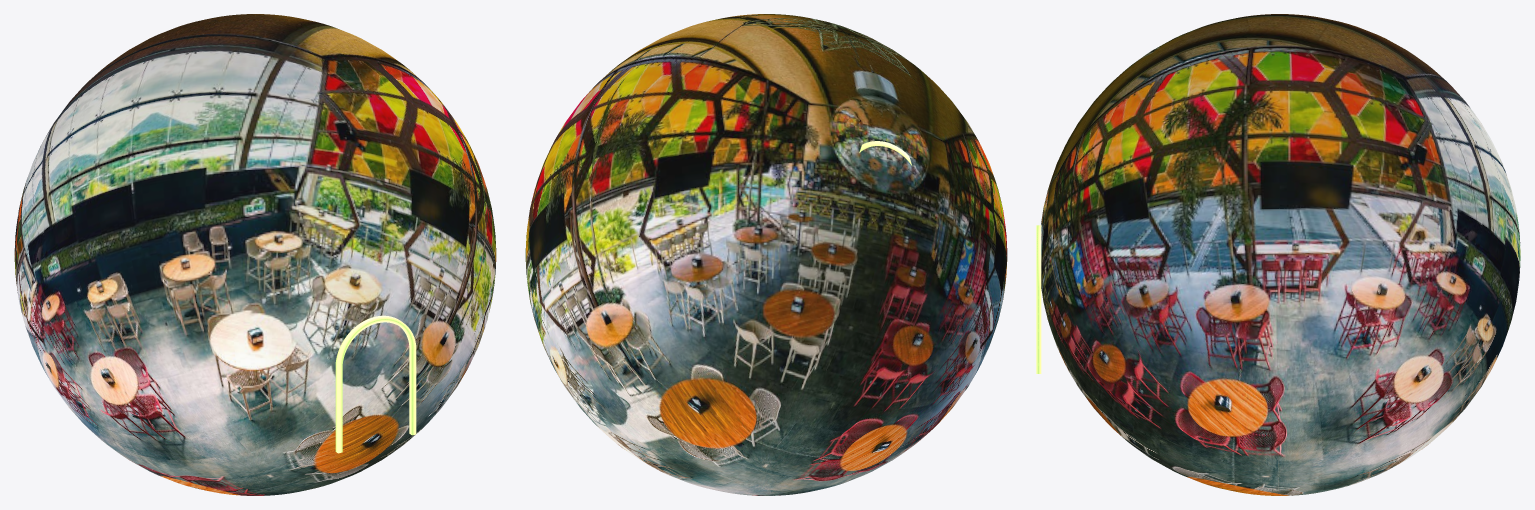
The model's file is kenko-portal.glb.
3 views of the same model, side by side, from view 1: azimuth 30°, elevation 25°; view 2: azimuth 150°, elevation 25°; view 3: azimuth 270°, elevation 25° (orthographic).
Parts seen in each view (by area): view 1: Portal; view 2: Portal; view 3: Portal.
Part boxes in pixels (<box>): Portal: <box>14,14,496,495</box>; Portal: <box>525,14,1007,495</box>; Portal: <box>1036,14,1520,495</box>.
Bounding box in the file's own units: 7 × 7 × 7.04.
2 materials, 1 textured.
